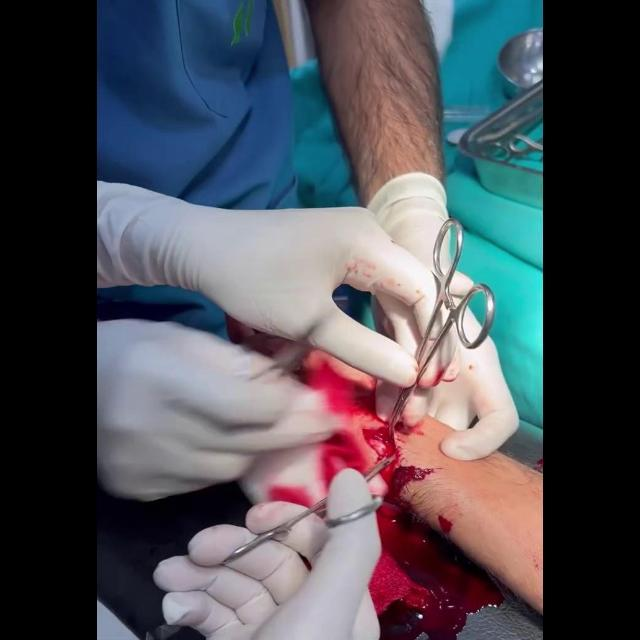blood: (358, 417, 494, 640), (243, 350, 393, 507)
